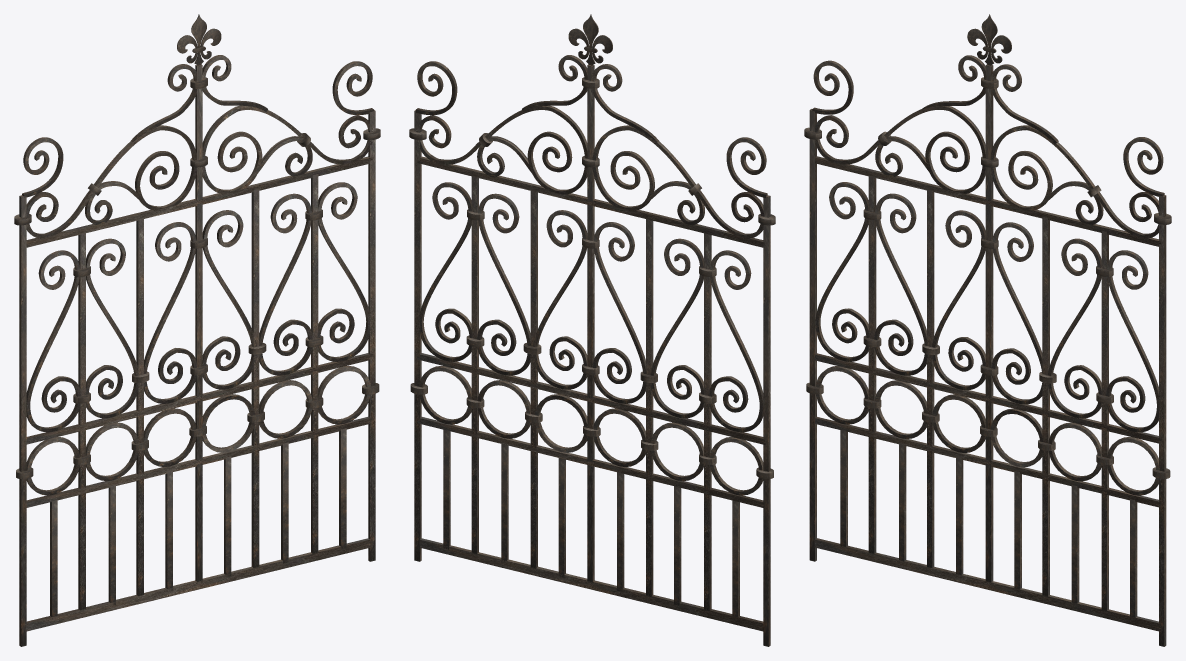
Rendered from Kraty.fbx.
3 renders of one model, left to right at view 1: azimuth 30°, elevation 25°; view 2: azimuth 150°, elevation 25°; view 3: azimuth 330°, elevation 25°, orthographic.
Visible parts, largest first — view 1: Line015, Line012, Line007, Line008, Line016, Line004, Line017, Line014, Line029, Line013, Line011, Line010 (+25 smaller); view 2: Line015, Line012, Line007, Line008, Line004, Line029, Line016, Line017, Line014, Line011, Line013, Line010 (+25 smaller); view 3: Line015, Line012, Line008, Line007, Line013, Line029, Line016, Line004, Line014, Line017, Line011, Line010 (+25 smaller).
Part boxes in pixels (<box>): Line015: <box>195,64,202,582</box>; Line012: <box>25,538,372,631</box>; Line007: <box>19,195,26,646</box>; Line008: <box>368,110,375,561</box>; Line016: <box>251,189,259,567</box>; Line004: <box>25,125,196,238</box>; Line017: <box>311,174,318,553</box>; Line014: <box>136,218,143,595</box>; Line029: <box>202,105,373,193</box>; Line013: <box>78,233,85,610</box>; Line011: <box>26,417,372,507</box>; Line010: <box>25,353,373,444</box>; Line015: <box>587,64,594,582</box>; Line012: <box>420,538,763,631</box>; Line007: <box>763,195,770,646</box>; Line008: <box>414,110,421,561</box>; Line004: <box>592,125,764,238</box>; Line029: <box>416,105,588,194</box>; Line016: <box>530,191,537,568</box>; Line017: <box>471,176,478,554</box>; Line014: <box>646,219,653,597</box>; Line011: <box>417,417,765,507</box>; Line013: <box>704,233,711,611</box>; Line010: <box>416,353,765,445</box>; Line015: <box>985,64,993,582</box>; Line012: <box>814,538,1161,631</box>; Line008: <box>1159,195,1166,646</box>; Line007: <box>809,109,816,561</box>; Line013: <box>868,176,876,553</box>; Line029: <box>991,125,1161,238</box>; Line016: <box>1042,216,1049,597</box>; Line004: <box>815,106,985,193</box>; Line014: <box>927,189,934,567</box>; Line017: <box>1101,230,1108,610</box>; Line011: <box>813,417,1161,507</box>; Line010: <box>813,353,1161,443</box>.
Size of the model in its own units: 331 by 509 by 10.56.
1 material, 1 textured.
